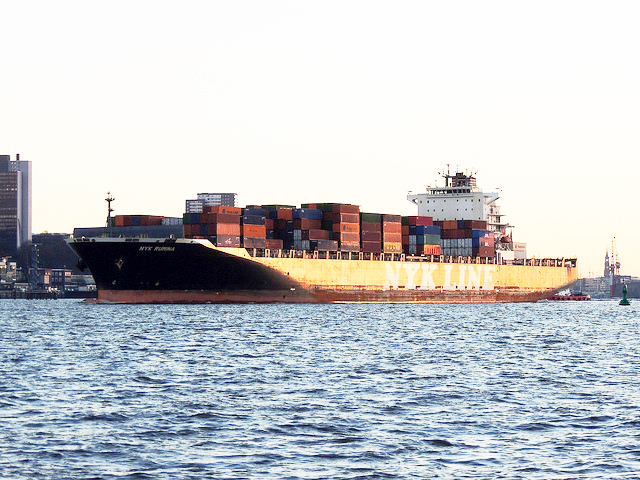container_ship: (65, 161, 578, 302)
